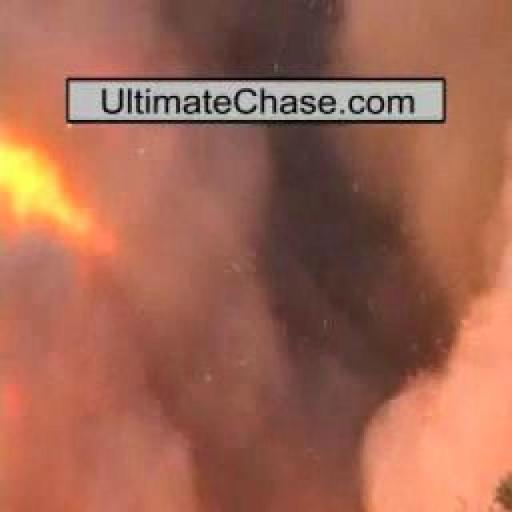smoke: (0, 115, 127, 263)
